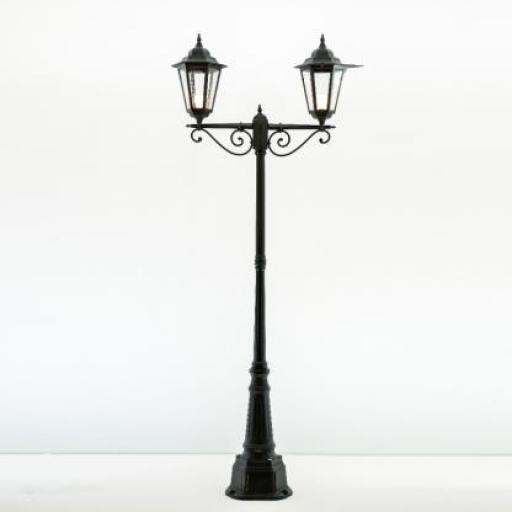street light: (172, 35, 365, 502)
